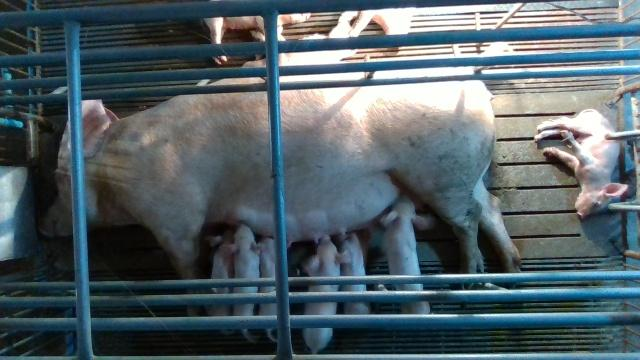piglet: (535, 108, 629, 220), (238, 11, 358, 67), (380, 191, 432, 316), (302, 233, 351, 355), (205, 12, 310, 64), (223, 224, 266, 344), (206, 228, 234, 335), (340, 231, 372, 314), (256, 235, 279, 344), (349, 7, 416, 36)
sow-sleep-lactate: (38, 43, 521, 315)
